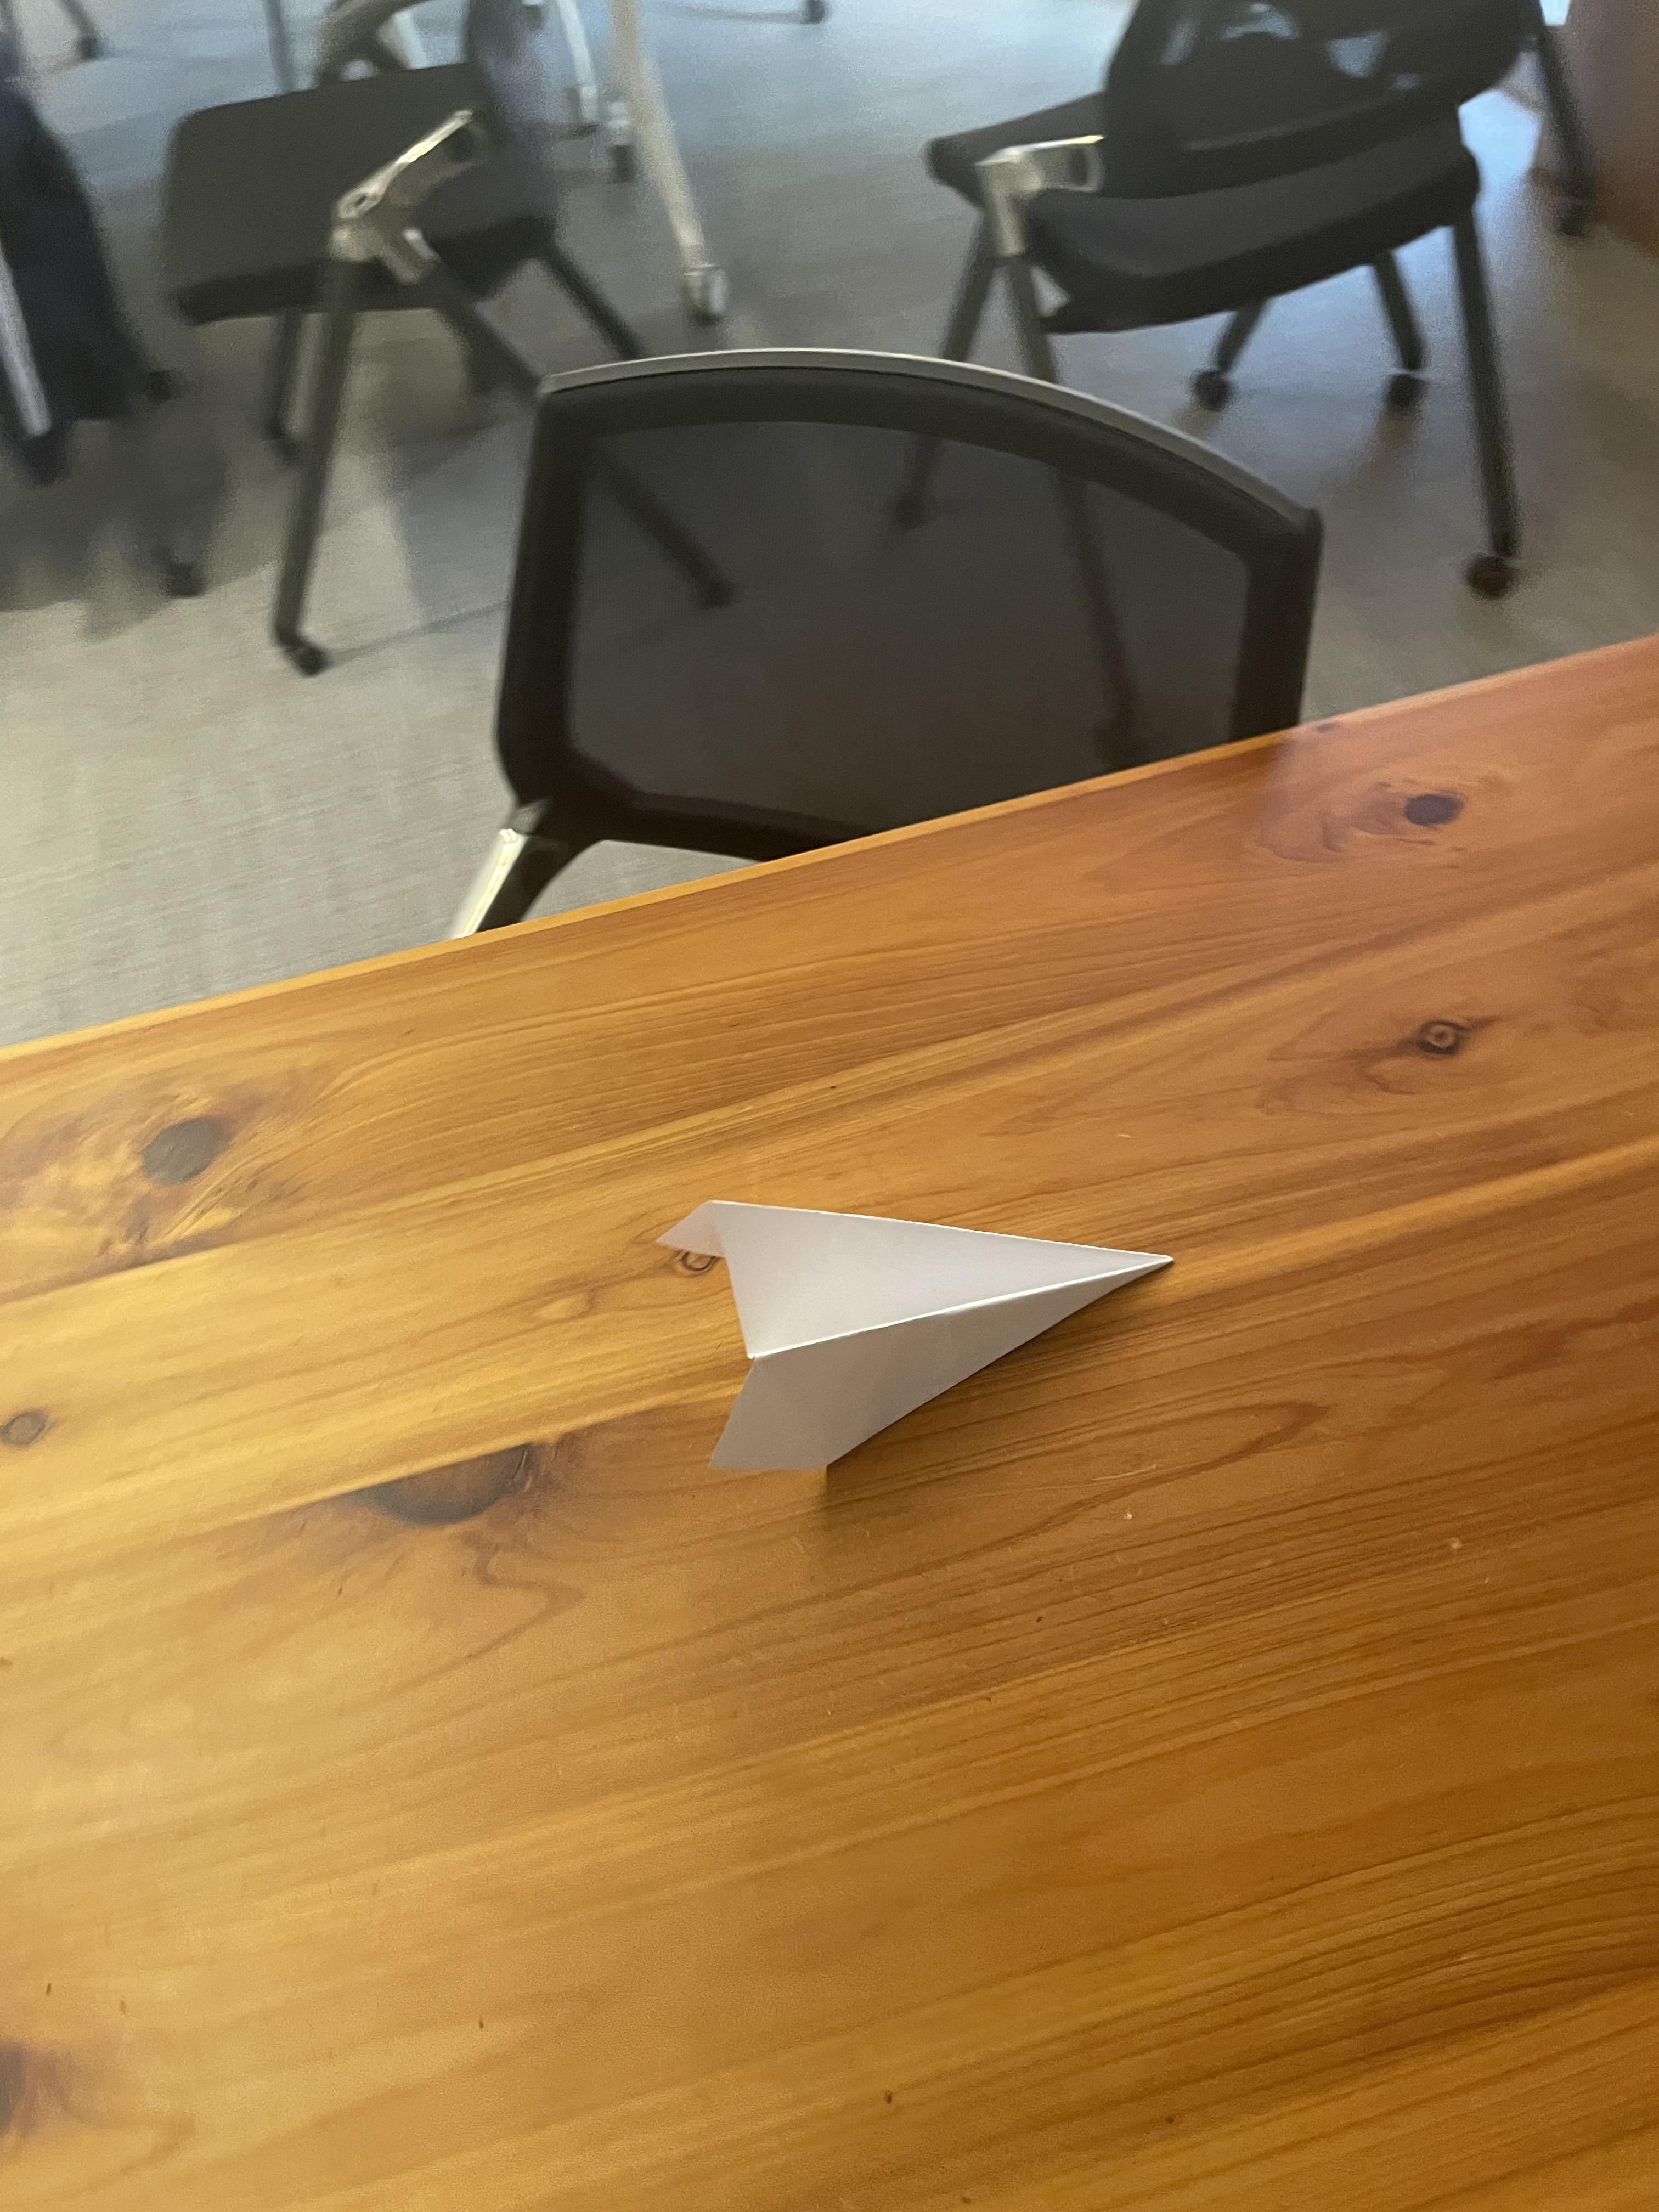shape_3: (598, 1087, 1201, 1555)
